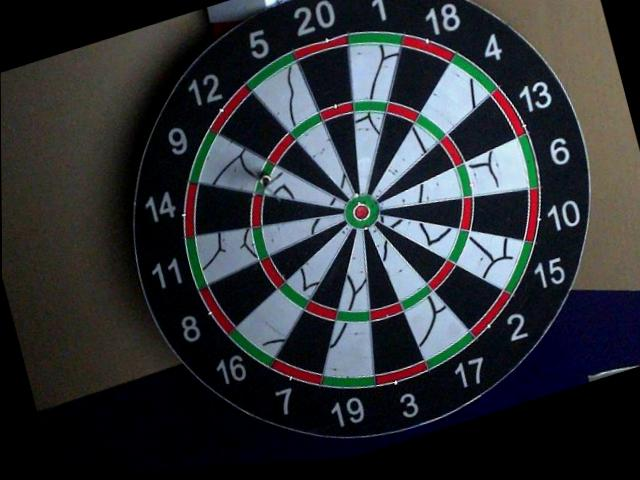triple_9: (257, 157, 275, 192)
